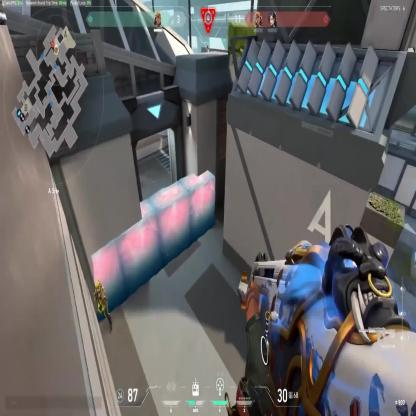enemy: (92, 280, 113, 333)
enemy_head: (94, 280, 100, 291)
